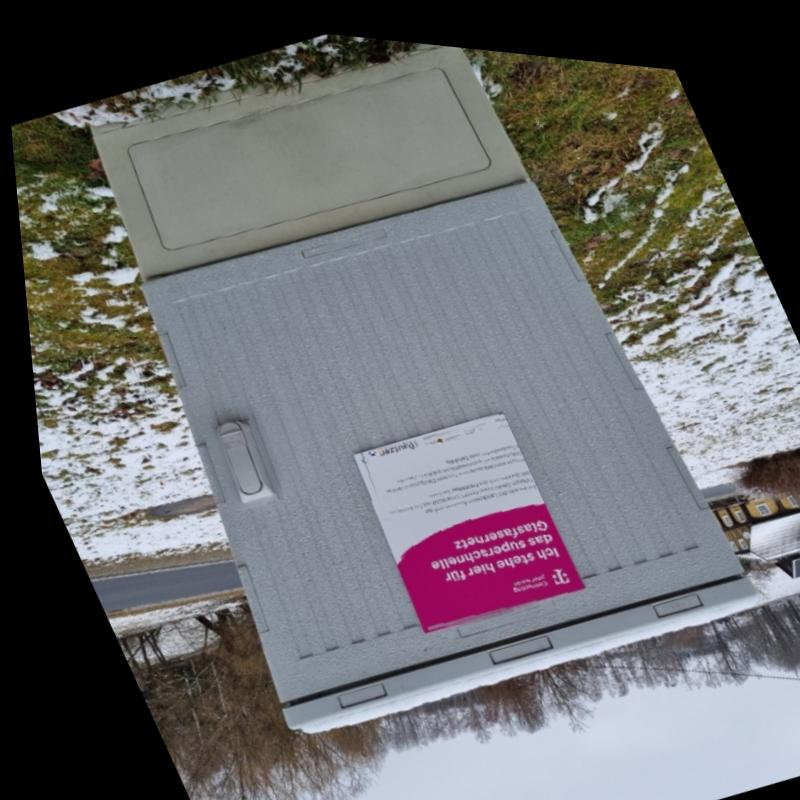NT-Gehause: (17, 1, 765, 775)
Steaker: (337, 388, 578, 639)
